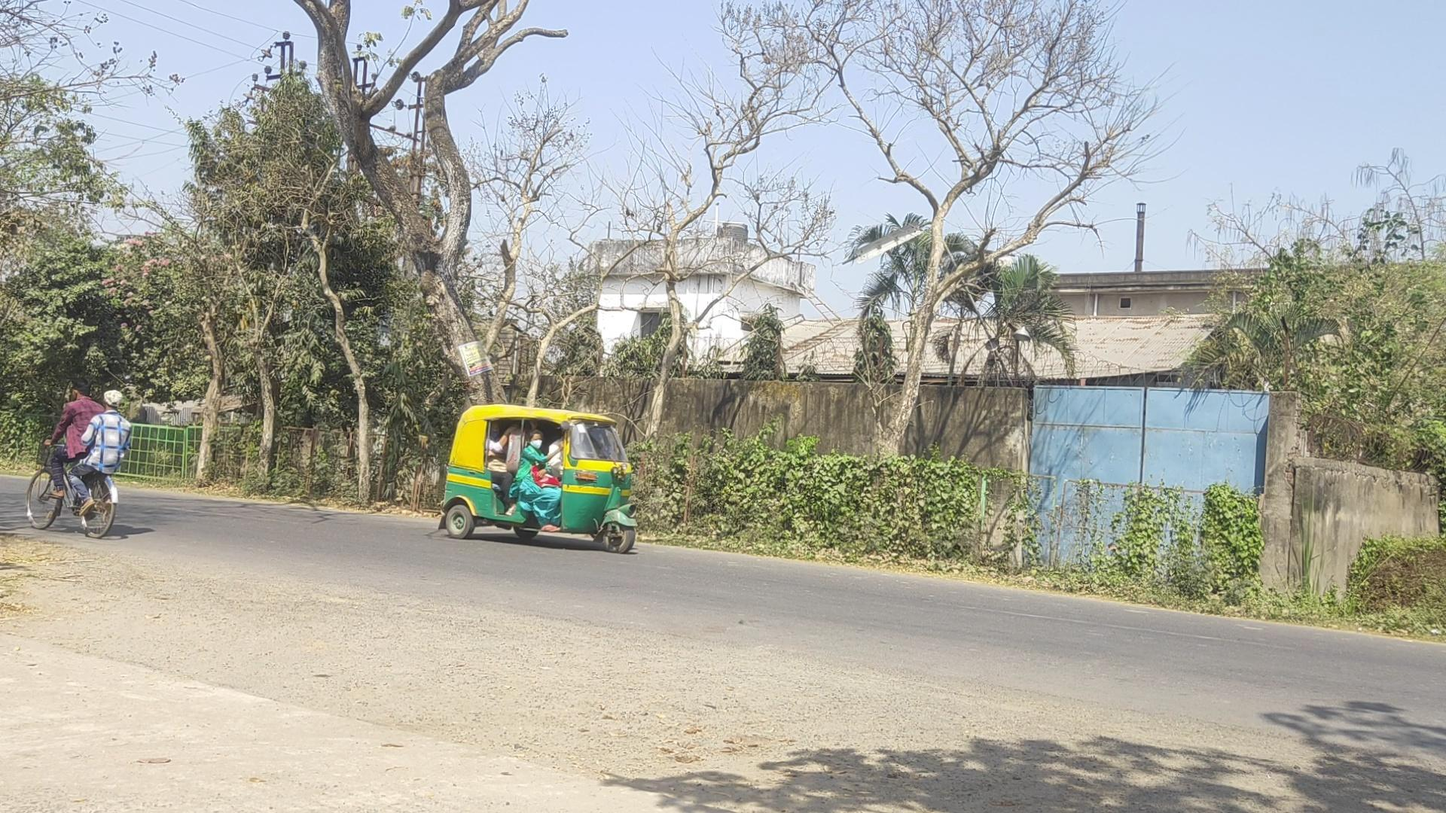Auto: (438, 404, 637, 554)
bike: (26, 379, 133, 538)
